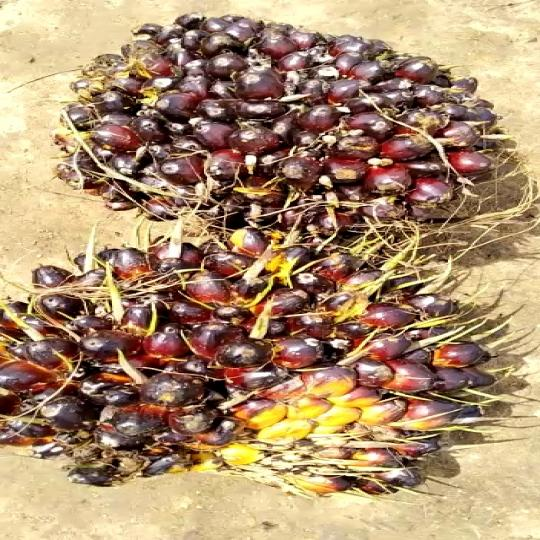kurang masak: (0, 226, 509, 501), (56, 9, 498, 243)
